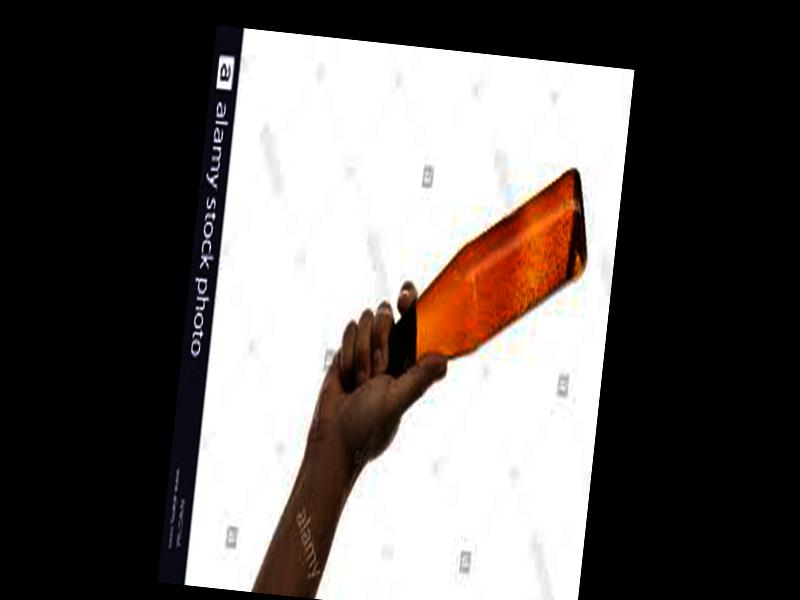Beer: (344, 146, 598, 410)
